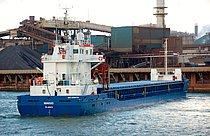Ship: (12, 41, 192, 120)
